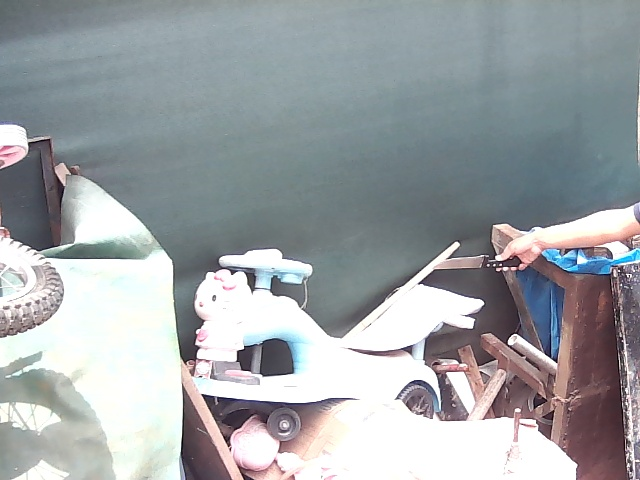cuchillo: (431, 252, 511, 276)
